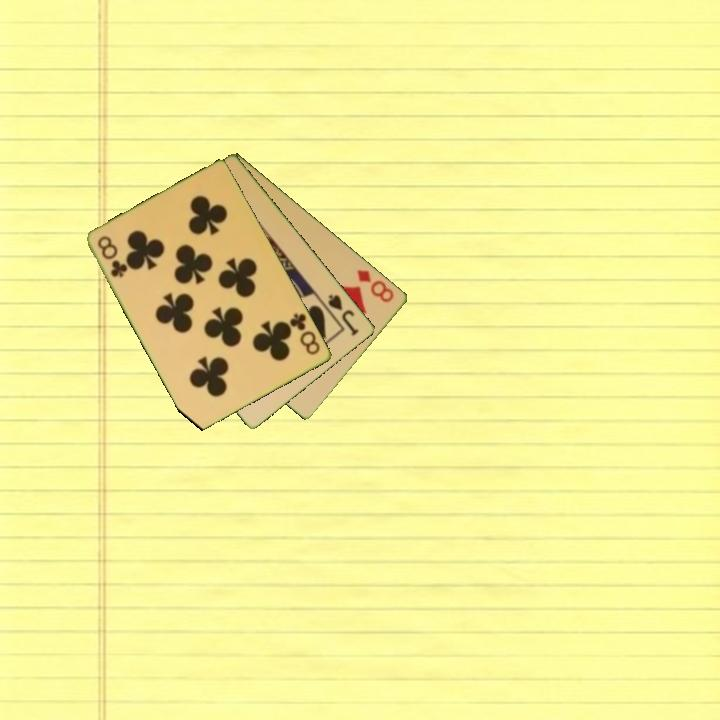8c: (286, 310, 323, 358), (94, 232, 130, 281)
8d: (354, 266, 397, 305)
Js: (325, 291, 362, 339)
